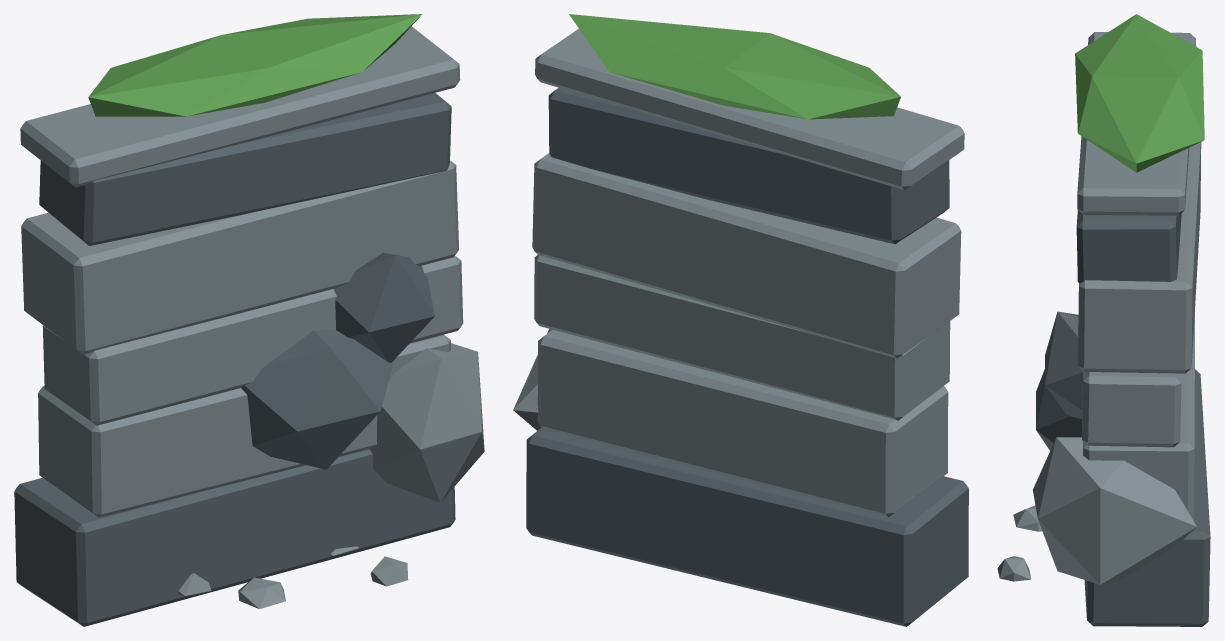
File: cliff_face.glb
3 renders of one model, left to right at view 1: azimuth 30°, elevation 25°; view 2: azimuth 150°, elevation 25°; view 3: azimuth 270°, elevation 25°, orthographic. The views are drawn at different scales.
Parts seen in each view (by area): view 1: cliff_face.001; view 2: cliff_face.001; view 3: cliff_face.001.
Boxes of the visible parts, left/top/right/bottom form: cliff_face.001: left=14, top=14, right=484, bottom=626; cliff_face.001: left=513, top=14, right=968, bottom=626; cliff_face.001: left=997, top=14, right=1210, bottom=626.
Size of the model in its own units: 4.29 by 5 by 2.04.
